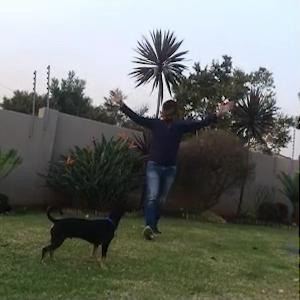takeoff: (111, 83, 239, 230)
